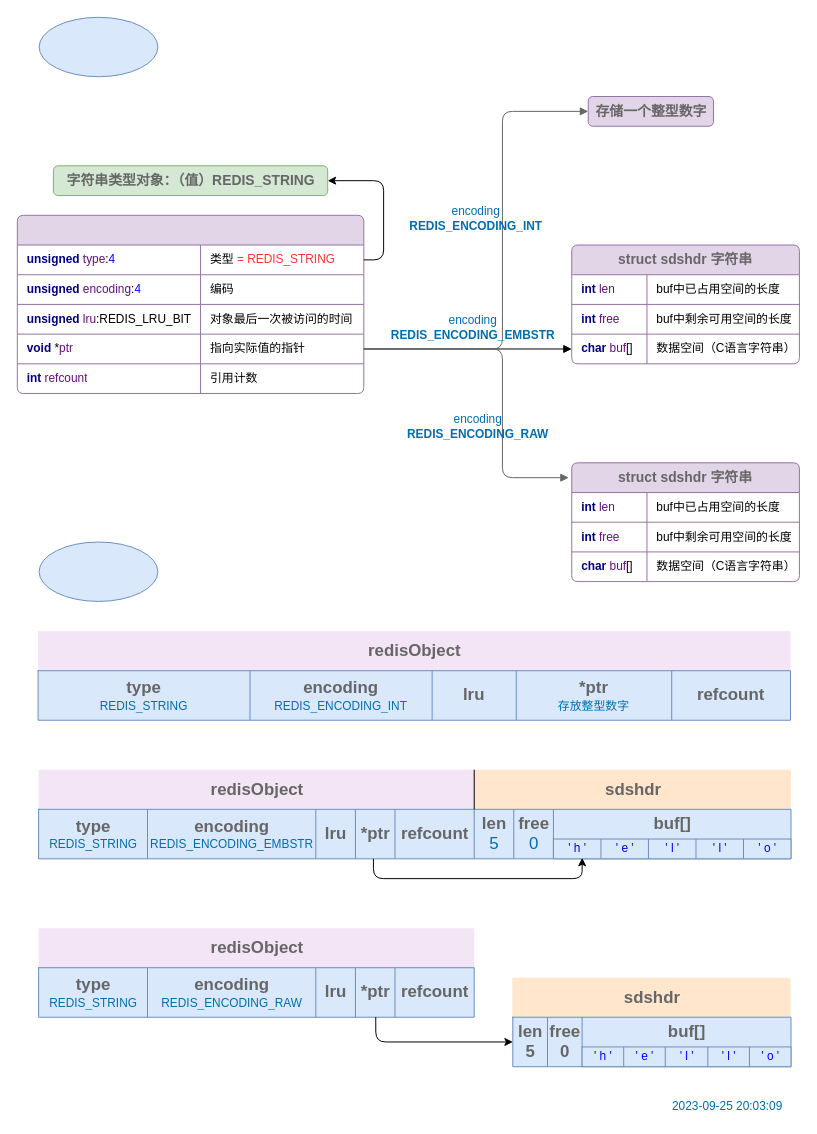
The diagram is 817 pixels wide and 1134 high, and some of its shapes have lost their labels. Here are the shapes that lost their labels. From the top down, the box of each, then its label:
(38, 16, 158, 77): Redic Object 数据对象
(16, 214, 364, 394): typedef struct redisObject 数据对象
(38, 541, 158, 601): 案例
